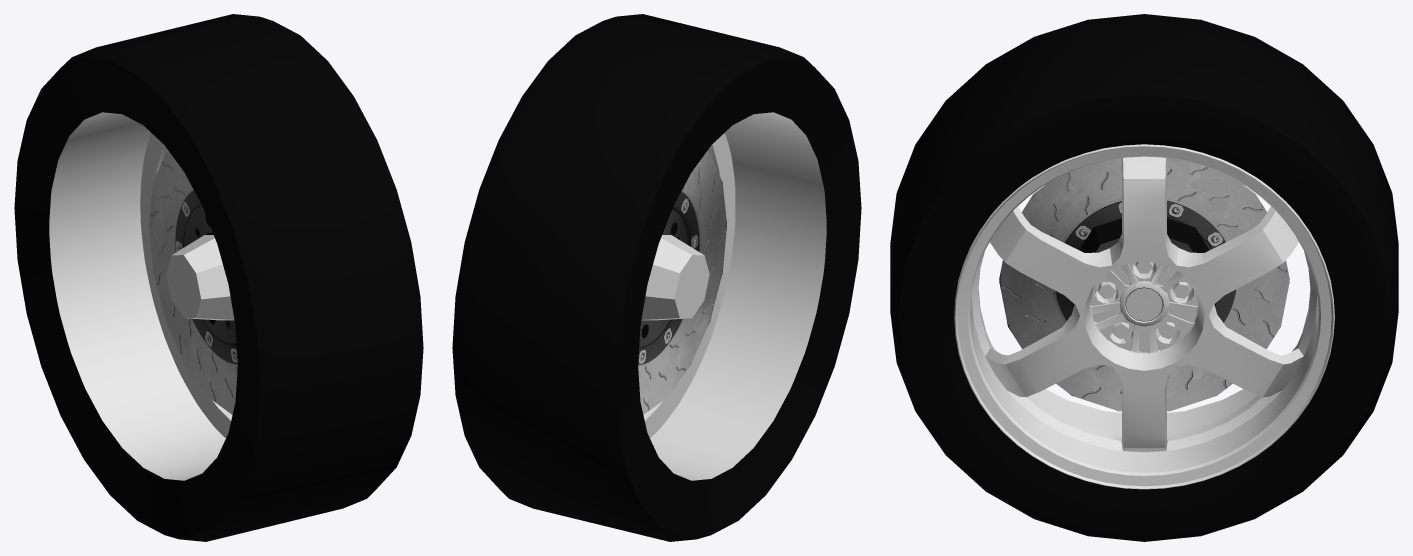
File: original-wheel.fbx
The picture shows the model from 3 angles, left to right: view 1: azimuth 30°, elevation 25°; view 2: azimuth 150°, elevation 25°; view 3: azimuth 270°, elevation 25°; orthographic projection.
Parts seen in each view (by area): view 1: wheel_RR; view 2: wheel_RR; view 3: wheel_RR.
Part boxes in pixels (x1=…): wheel_RR: x1=14, y1=14, x2=423, y2=541; wheel_RR: x1=452, y1=14, x2=861, y2=541; wheel_RR: x1=890, y1=14, x2=1398, y2=541.
Size of the model in its own units: 0.3005 by 0.7867 by 0.7867.
Materials: 4 (1 with a texture image).
